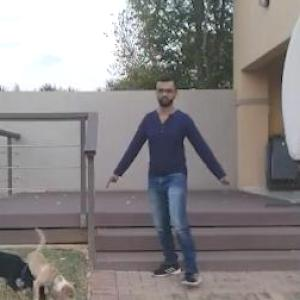land: (107, 79, 236, 289)
